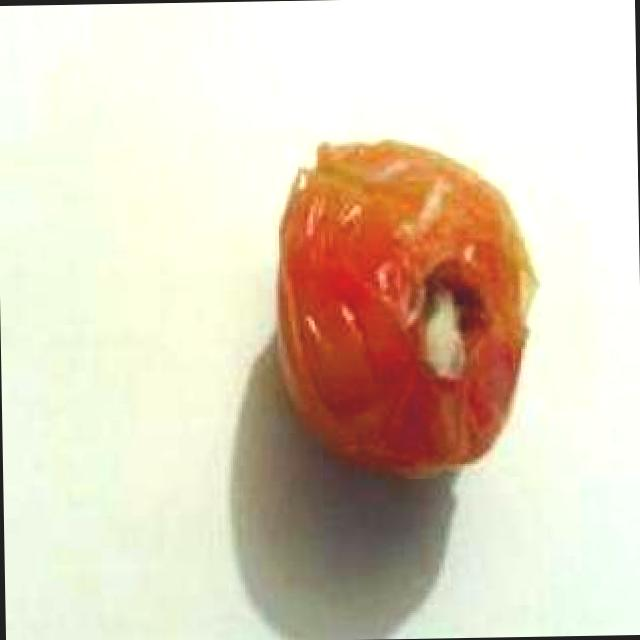Rotten_Tomato: (261, 130, 551, 495)
